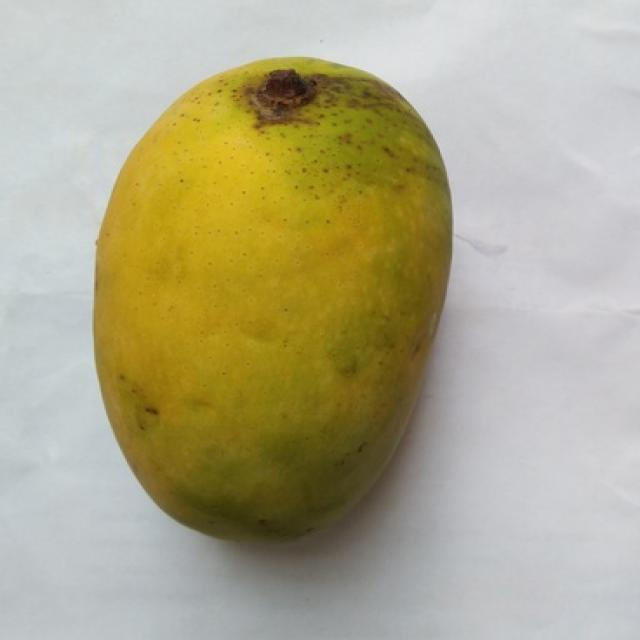Mango: (96, 58, 450, 540)
